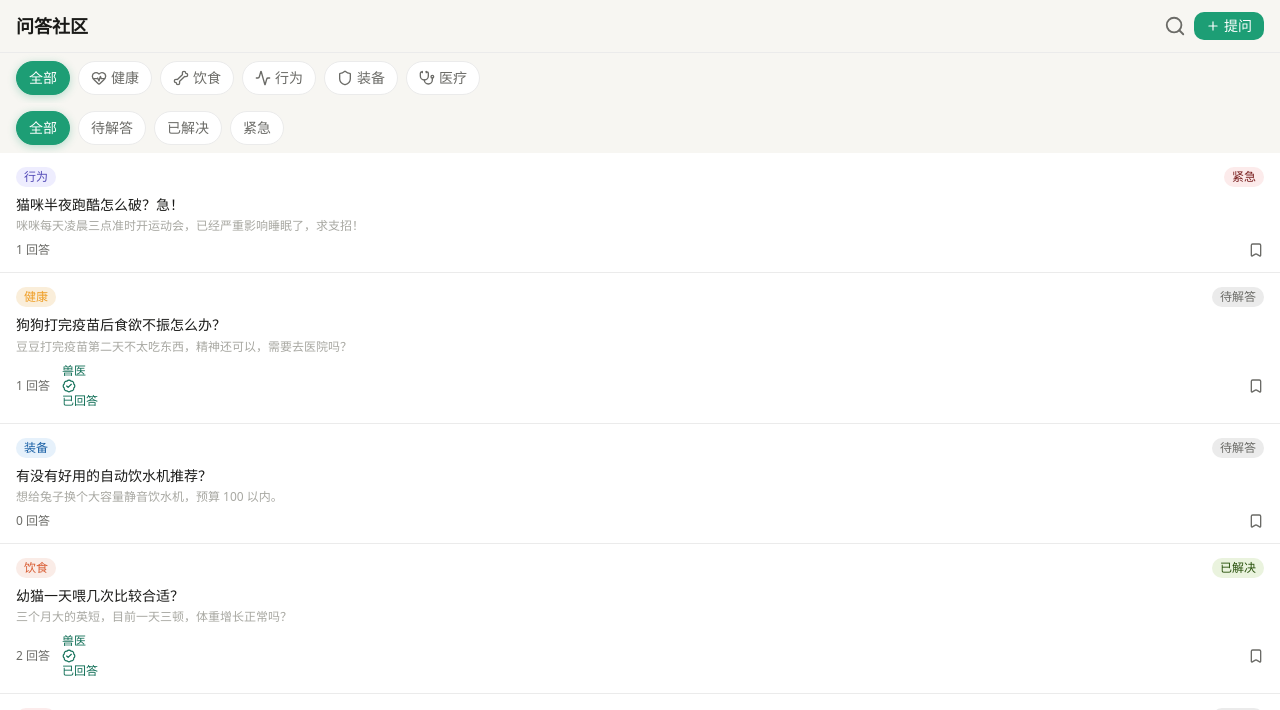
Test case: 问答状态筛选与兽医激励（P0-5） › 已解决筛选仅显示 resolved（q2）
Click the button "已解决".
click(188, 128)  # box [154,111,222,145]
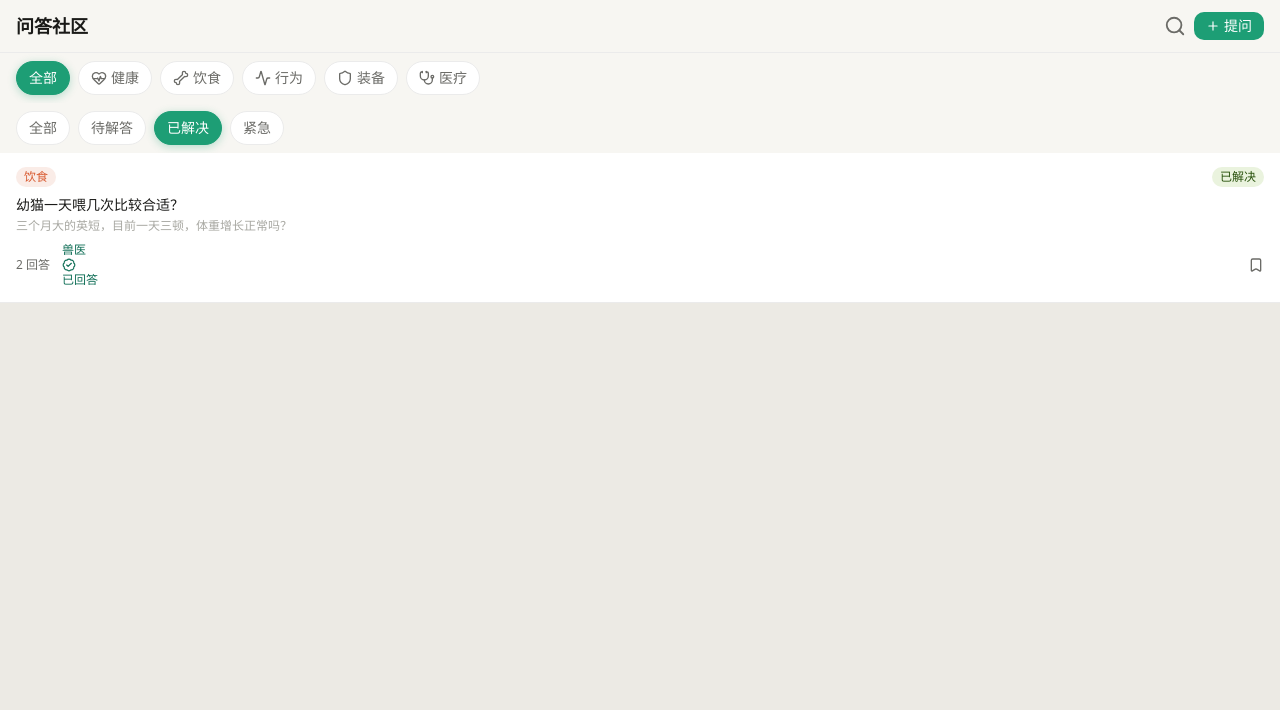
Check: the link "幼猫一天喂几次比较合适？" is shown, box [16,195,184,214]
Check: the link "狗狗打完疫苗后食欲不振怎么办？" is gone
